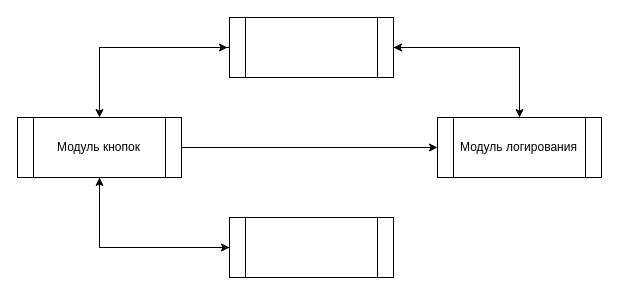
This 619x295 diagram has some shape labels left out. Each missing label, with the centre of its shape:
"Модуль вычисления" belongs at pixel 311 247.
"Основной модуль запуска" belongs at pixel 311 47.
